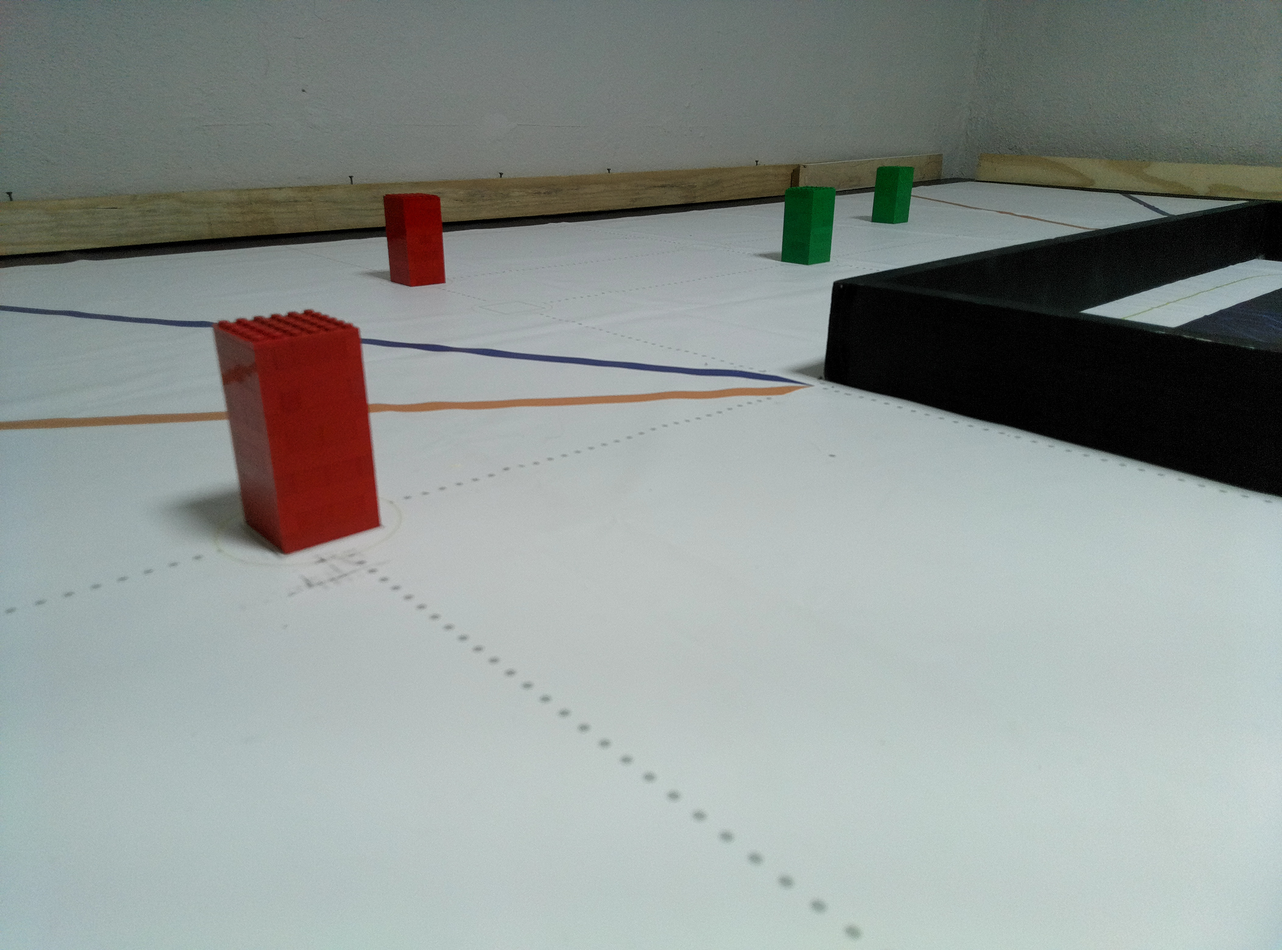greenbox: (780, 186, 836, 266), (871, 166, 915, 224)
redbox: (211, 309, 383, 557), (383, 191, 448, 287), (295, 309, 299, 310)
